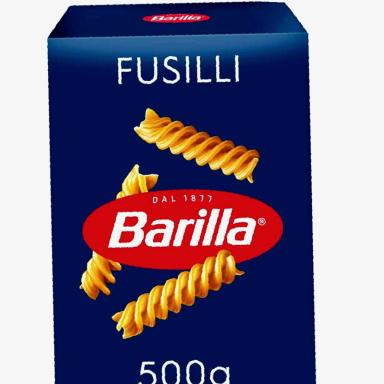pasta package: (48, 2, 314, 383)
